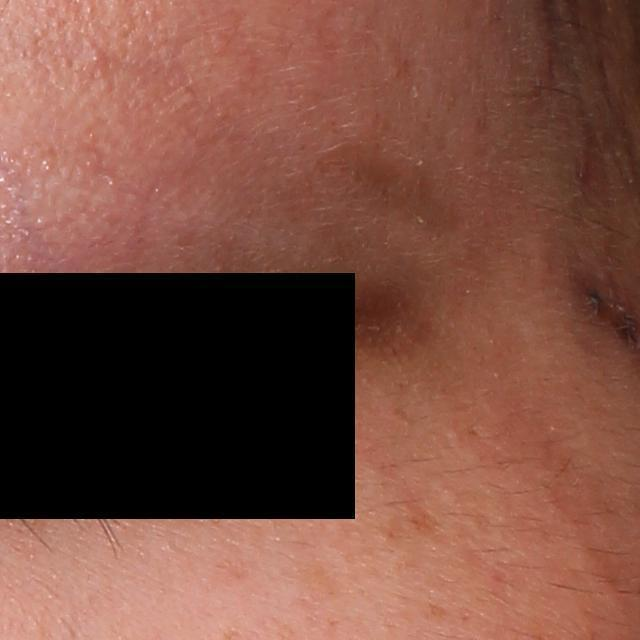melasma: (380, 504, 447, 544), (174, 494, 235, 531), (423, 596, 453, 621)
